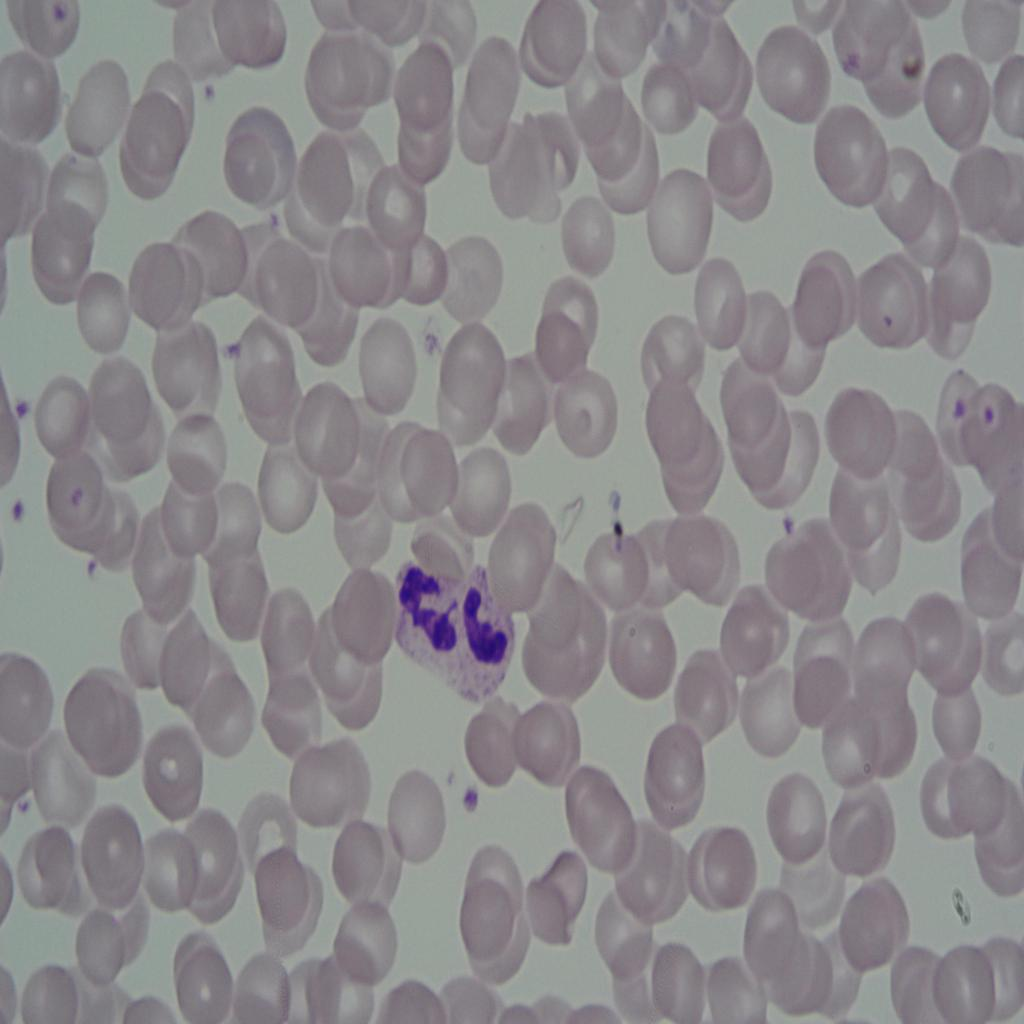Neutrofil: (396, 537, 516, 709)
Platelet: (3, 490, 27, 542), (462, 777, 482, 828), (978, 400, 1001, 440), (949, 384, 964, 445), (14, 388, 34, 422)
